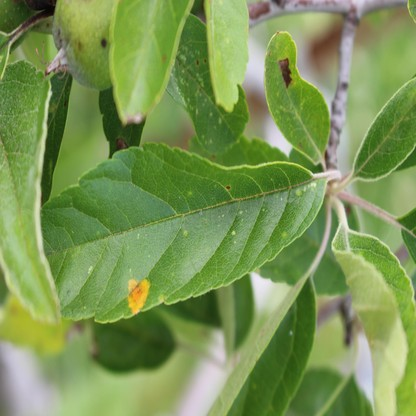frogeye_leaf_spot: (116, 138, 128, 152)
powdery_mildew: (0, 63, 50, 307)
rust: (126, 276, 150, 314)
